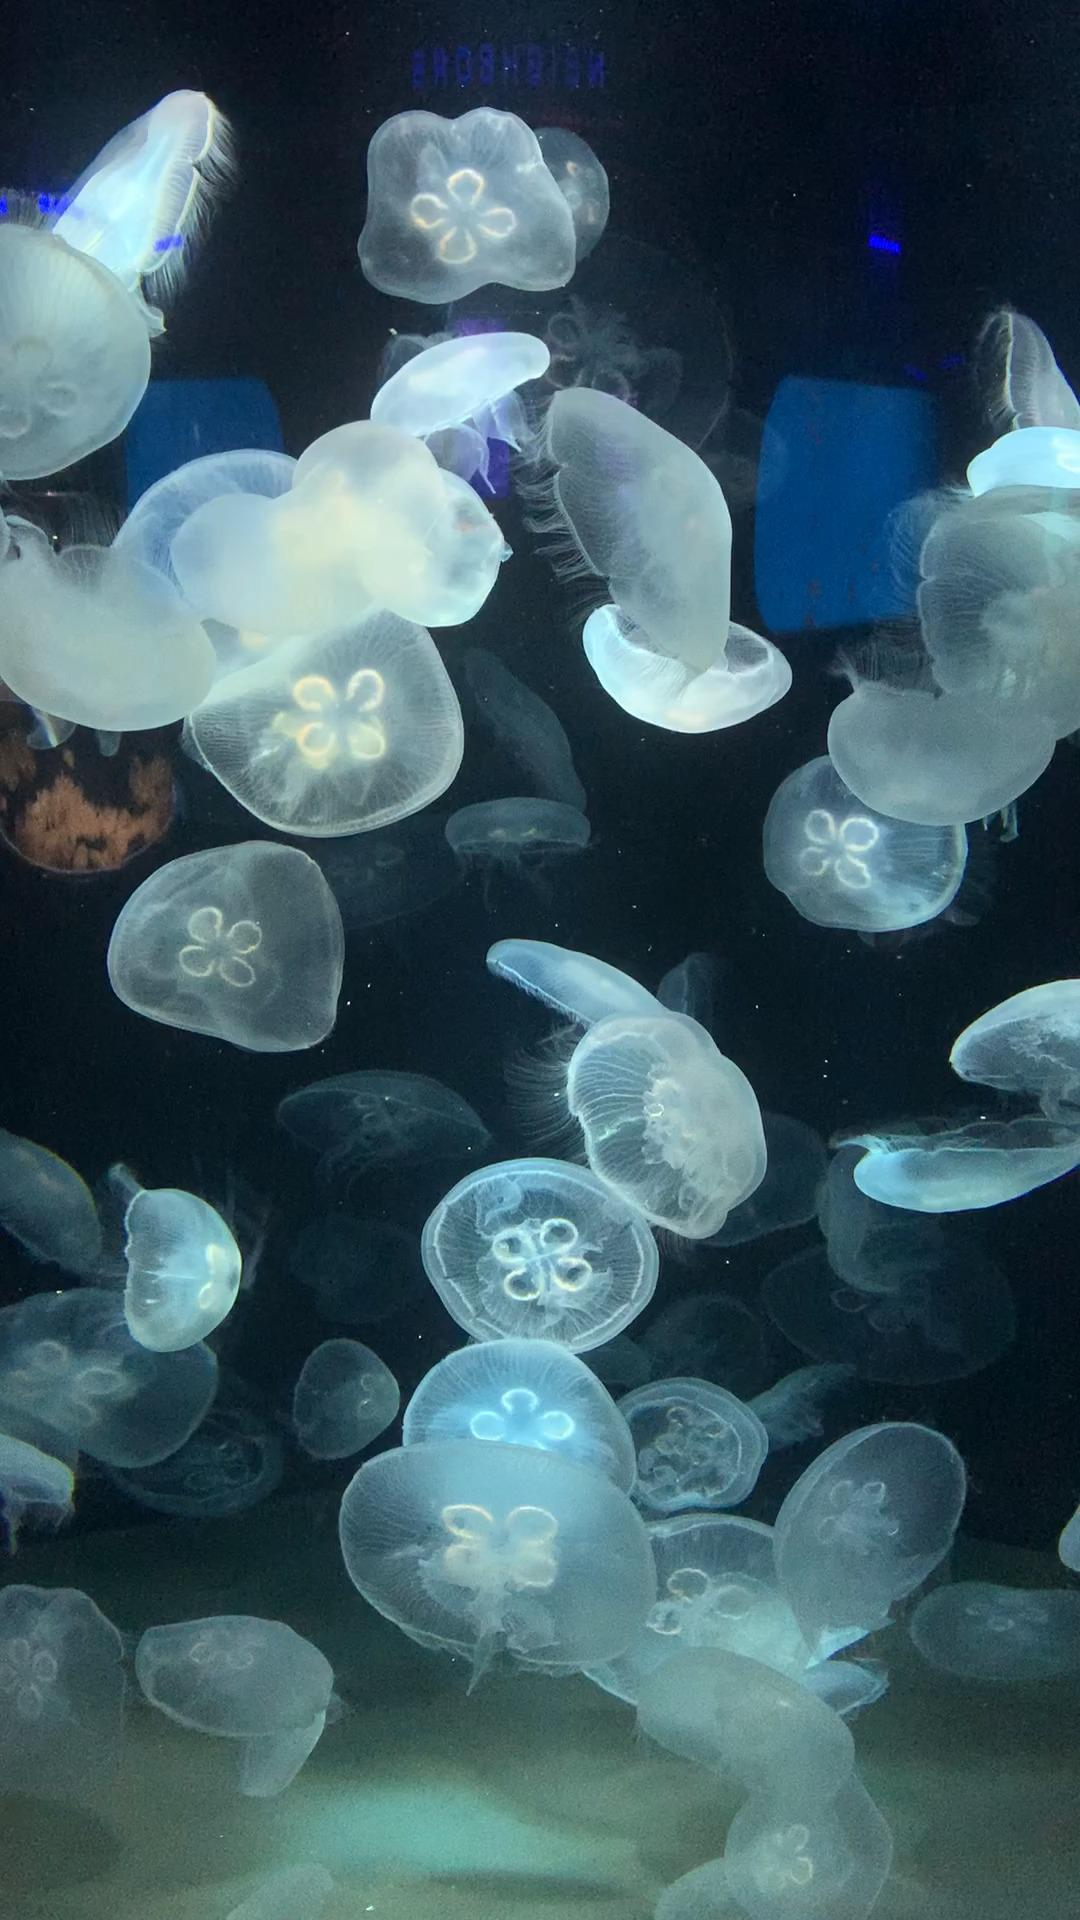jellyfish: (425, 223, 731, 495), (330, 1445, 661, 1691), (185, 589, 483, 844), (568, 1513, 869, 1731), (526, 381, 756, 665), (95, 824, 348, 1062), (527, 1007, 771, 1253), (344, 96, 597, 320), (112, 435, 342, 680), (3, 504, 227, 754), (15, 149, 214, 425), (47, 66, 268, 313), (414, 1154, 659, 1370), (401, 1331, 634, 1547), (891, 484, 1080, 745), (746, 758, 988, 955), (815, 646, 1059, 839), (781, 1420, 986, 1644), (4, 1287, 227, 1477), (309, 435, 510, 640), (764, 1237, 1026, 1379), (576, 585, 800, 745), (276, 1054, 496, 1212), (135, 1606, 340, 1766), (0, 1578, 142, 1808), (252, 773, 454, 931), (852, 1109, 1080, 1249), (644, 1640, 865, 1782), (940, 306, 1080, 520), (364, 320, 559, 473), (719, 1760, 905, 1920), (488, 924, 682, 1069), (92, 1183, 251, 1342), (103, 1389, 287, 1524), (609, 1375, 767, 1520), (903, 1572, 1080, 1691), (290, 1211, 444, 1336), (477, 121, 611, 262), (7, 1125, 121, 1287), (949, 972, 1080, 1112), (282, 1329, 407, 1470), (452, 798, 603, 915), (665, 1273, 779, 1400), (651, 1853, 822, 1920), (1058, 1507, 1080, 1576)
